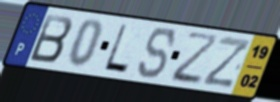0: (66, 17, 105, 70)
B: (27, 12, 76, 65)
L: (101, 22, 131, 76)
S: (136, 26, 177, 81)
Z: (200, 34, 253, 90), (169, 31, 221, 87)
